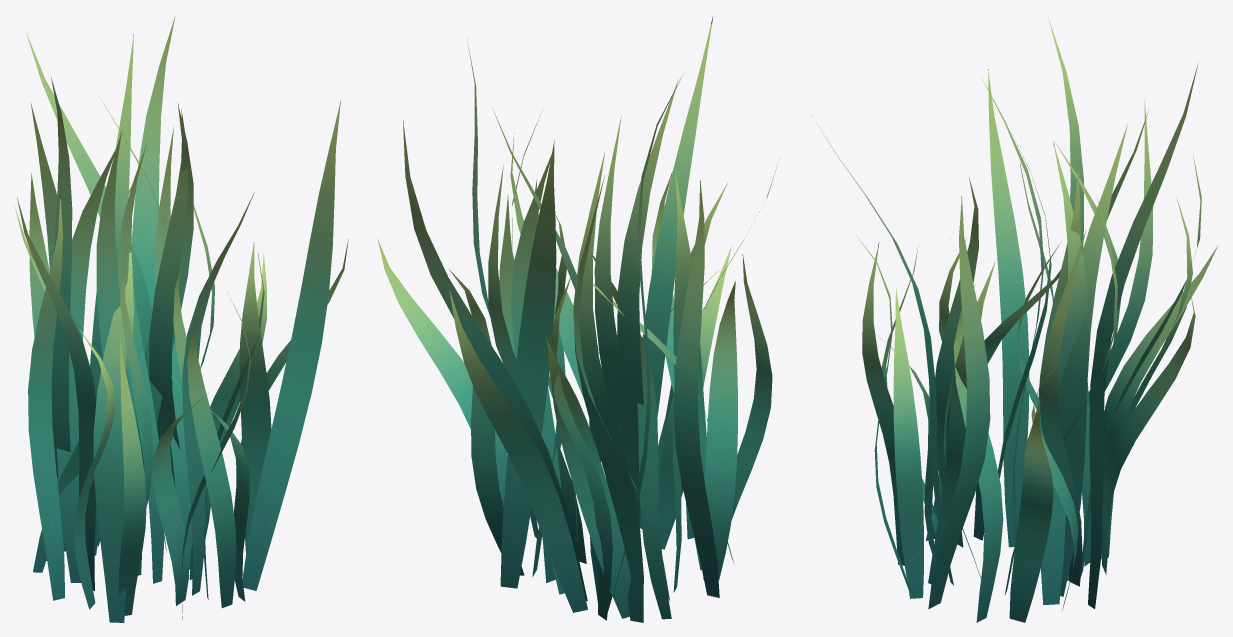
The model's file is Seaweed_Grass.fbx.
3 renders of one model, left to right at view 1: azimuth 30°, elevation 25°; view 2: azimuth 150°, elevation 25°; view 3: azimuth 270°, elevation 25°, orthographic. The views are drawn at different scales.
Visible parts, largest first — view 1: Seaweed_Grass; view 2: Seaweed_Grass; view 3: Seaweed_Grass.
Boxes of the visible parts, x1,y1,x2,y2 form: Seaweed_Grass: (14,15,348,622); Seaweed_Grass: (377,16,777,622); Seaweed_Grass: (817,17,1217,622).
Bounding box in the file's own units: 0.322 × 0.4395 × 0.3122.
